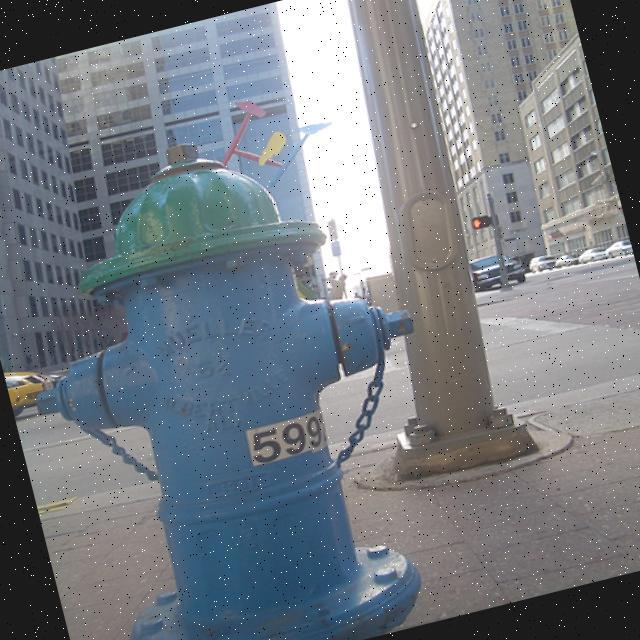fire_hydrant: (0, 98, 486, 640)
